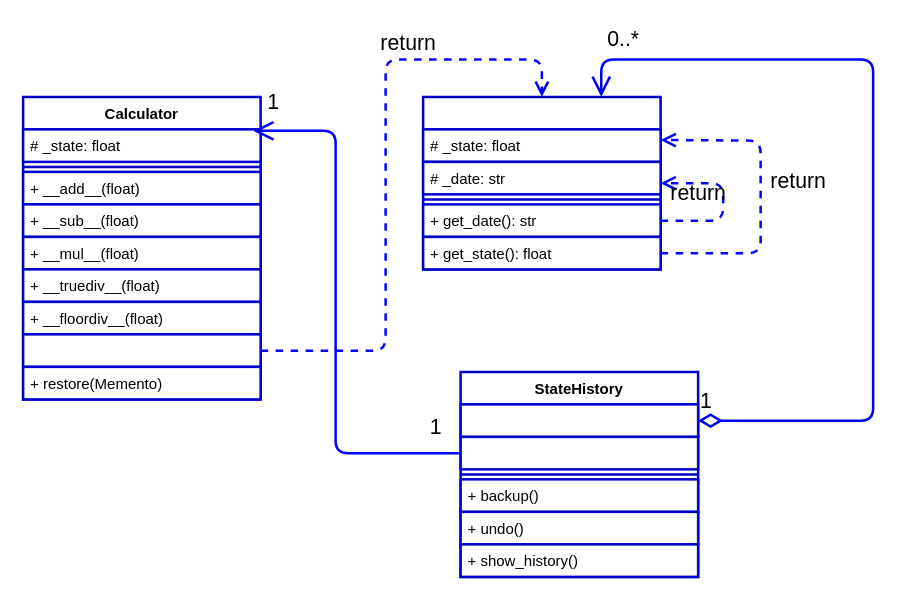
The diagram is 916 pixels wide and 601 high, and some of its shapes have lost their labels. Each missing label, with the box of its shape:
# _mementos: list[Memento]: (459, 402, 699, 438)
# _state: Calculator: (459, 435, 699, 470)
+ save(): Memento: (21, 332, 261, 368)
Memento: (421, 95, 661, 270)
